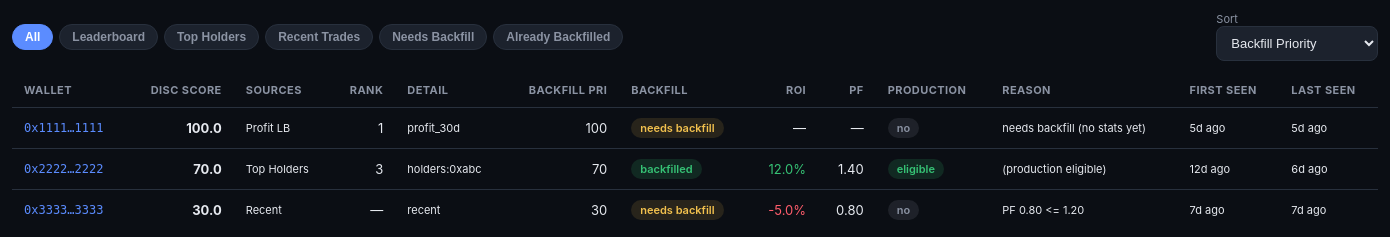
Test case: DiscoveryCandidatesTable › filters to Top Holders
The image size is (1390, 237).
Click the button "Top Holders" at (212, 36), box [164,24,259,50]
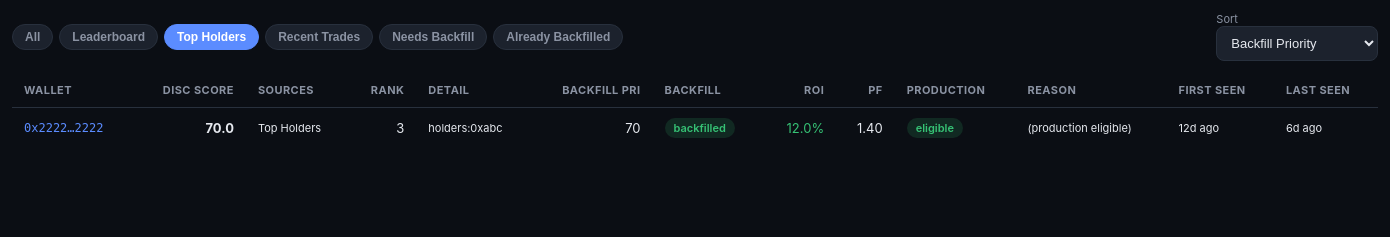
Expected: the text "Top Holders" is shown, [246,108,349,148]
Now the number of rows with test id "discovery-row" is 1, box [12,108,1378,148]
